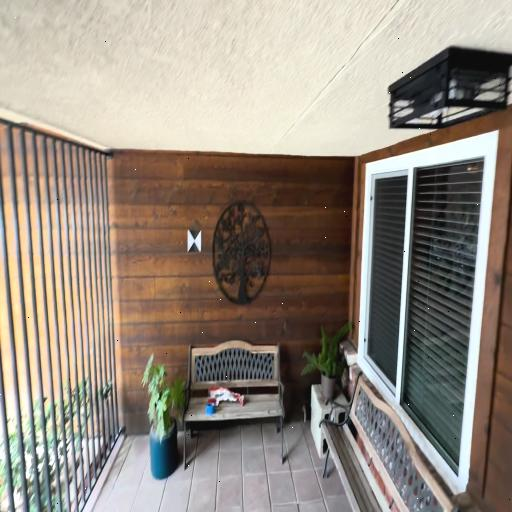target: (188, 230, 201, 252)
